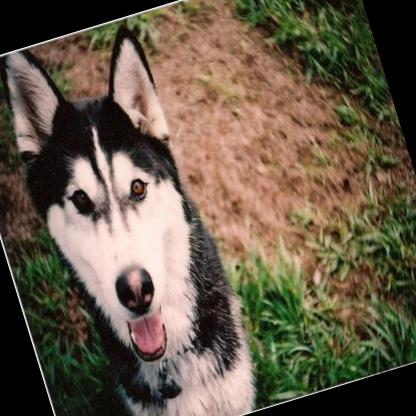Eskimo_dog: (0, 9, 268, 416)
